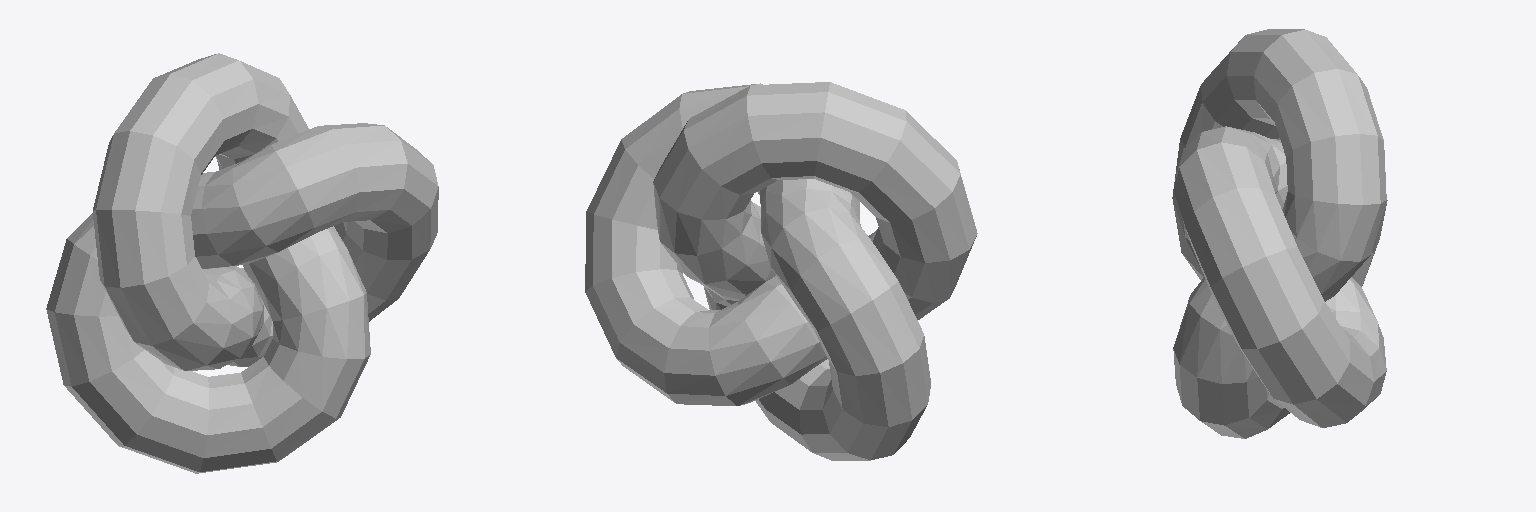
File: TorusKnot.obj
3 views of the same model, side by side, from view 1: azimuth 30°, elevation 25°; view 2: azimuth 150°, elevation 25°; view 3: azimuth 270°, elevation 25° (orthographic).
Visible parts, largest first — view 1: TorusKnot; view 2: TorusKnot; view 3: TorusKnot.
Boxes of the visible parts, x1=… form: TorusKnot: x1=46, y1=53, x2=438, y2=473; TorusKnot: x1=585, y1=82, x2=977, y2=460; TorusKnot: x1=1172, y1=29, x2=1387, y2=438.
Size of the model in its own units: 1.23 by 1.27 by 0.6498.